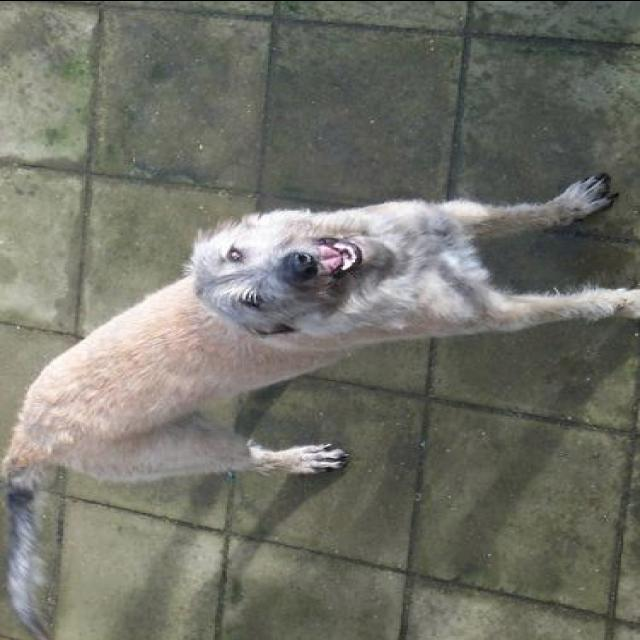irish_wolfhound: (2, 166, 638, 634)
